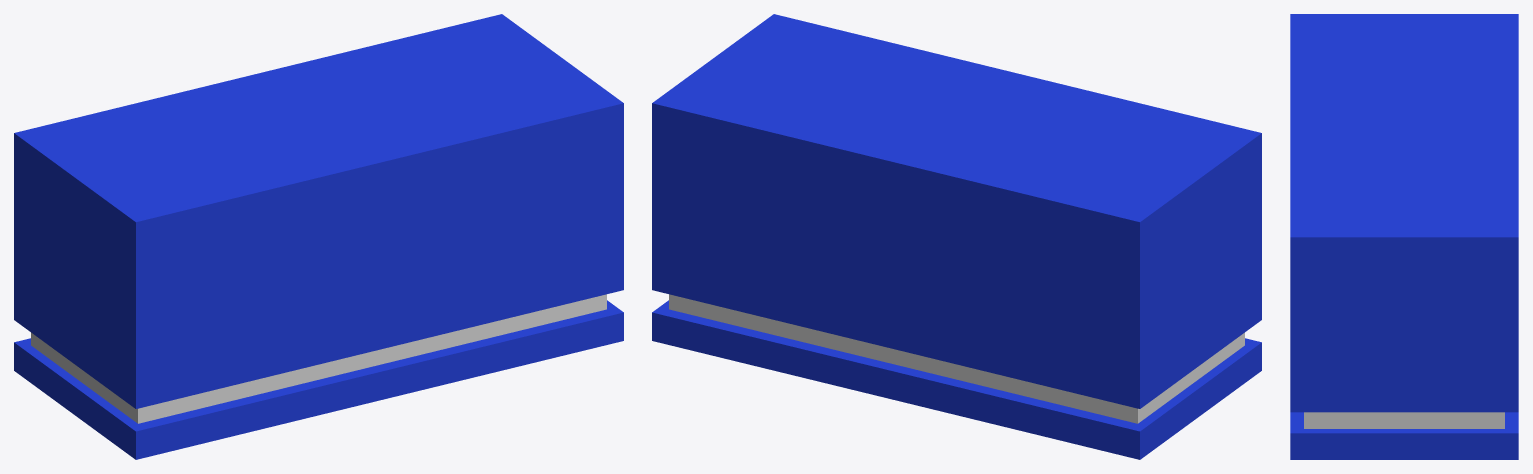
Rendered from Bloc_Large_01.fbx.
3 renders of one model, left to right at view 1: azimuth 30°, elevation 25°; view 2: azimuth 150°, elevation 25°; view 3: azimuth 270°, elevation 25°, orthographic. The views are drawn at different scales.
Visible parts, largest first — view 1: Bloc_Large_01; view 2: Bloc_Large_01; view 3: Bloc_Large_01.
Part boxes in pixels (x1,y1,x2,y2): Bloc_Large_01: [14, 14, 623, 459]; Bloc_Large_01: [652, 14, 1261, 459]; Bloc_Large_01: [1290, 14, 1518, 459].
Bounding box in the file's own units: 2.05 × 0.9565 × 0.8889.
